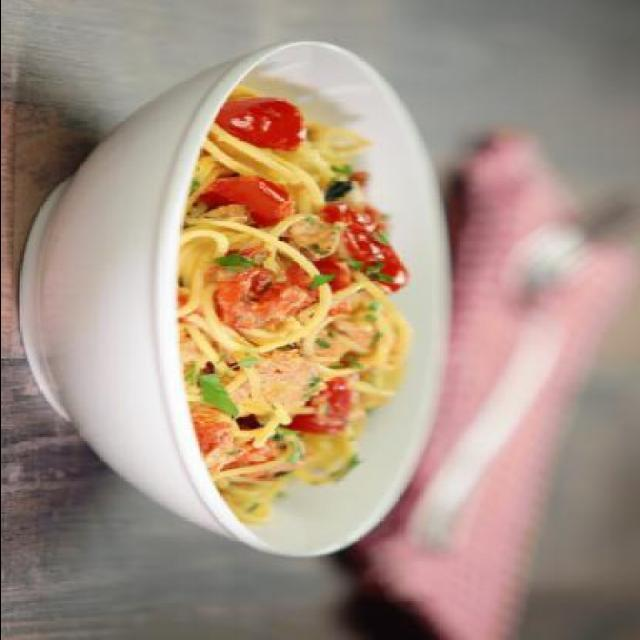Oil pasta: (58, 66, 454, 536)
